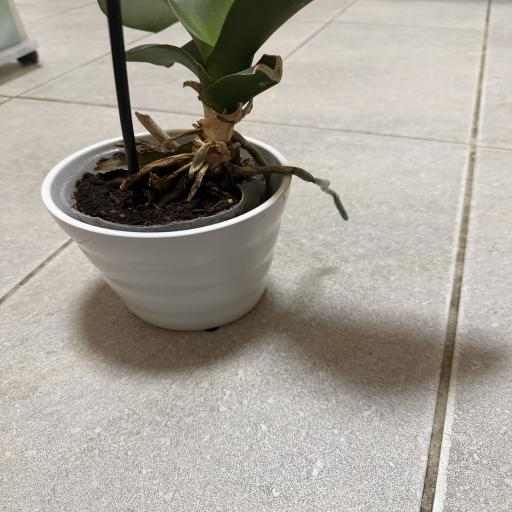Plant Pot: (36, 127, 294, 333)
